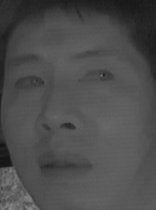eye: (76, 66, 118, 87), (12, 73, 46, 92)
mouth: (34, 146, 92, 184)
